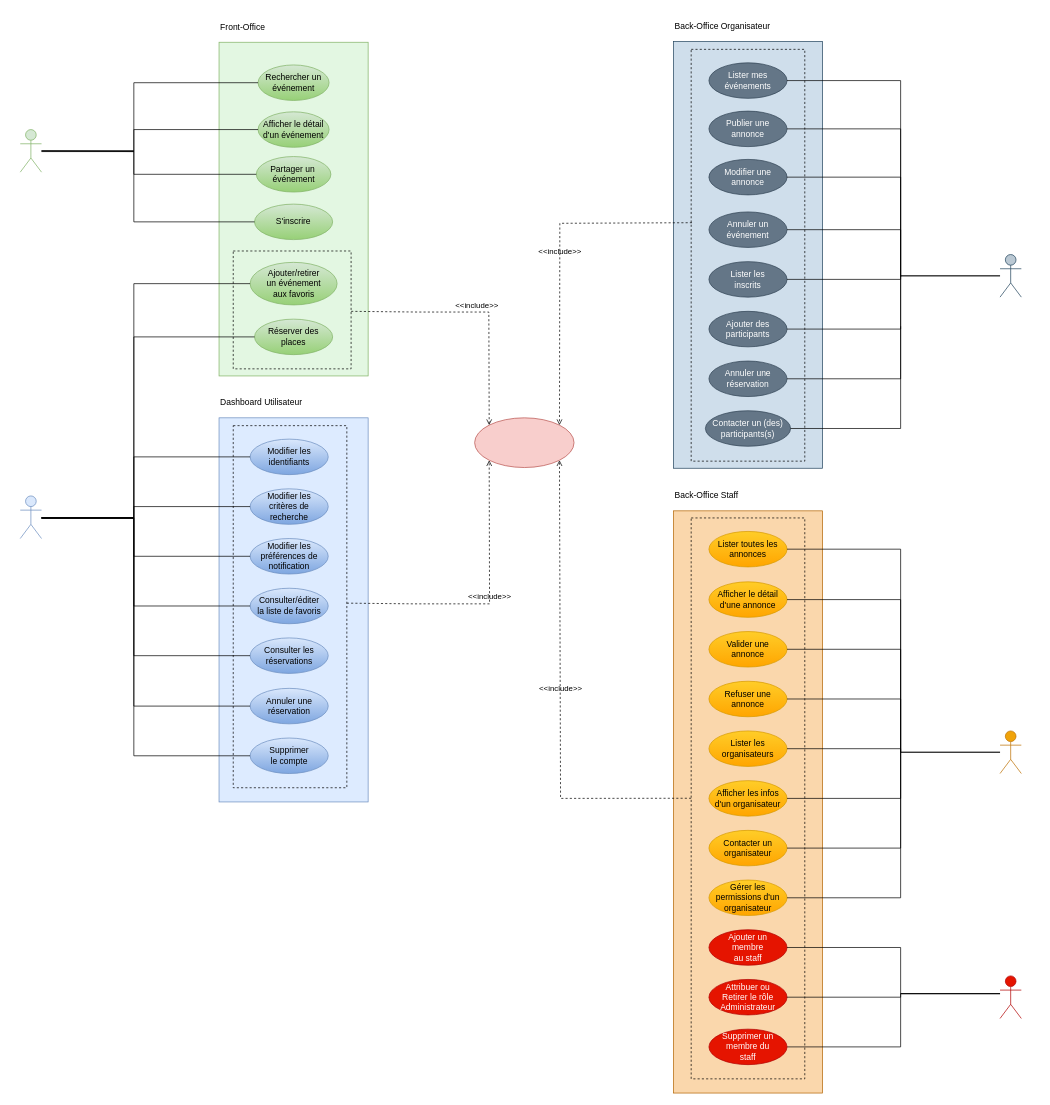
Image size: 1050x1105. Some labels were removed from this diagram. Each missing label, with the centre of its shape:
"Administrateur" belongs at [1010,996].
"Membre Staff" belongs at [1010,752].
"Organisateur" belongs at [1010,275].
"S'authentifier" belongs at [524,442].
"Utilisateur" belongs at [31,517].
"Visiteur" belongs at [31,150].
